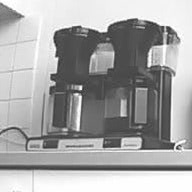not empty coffee: (100, 73, 162, 140)
